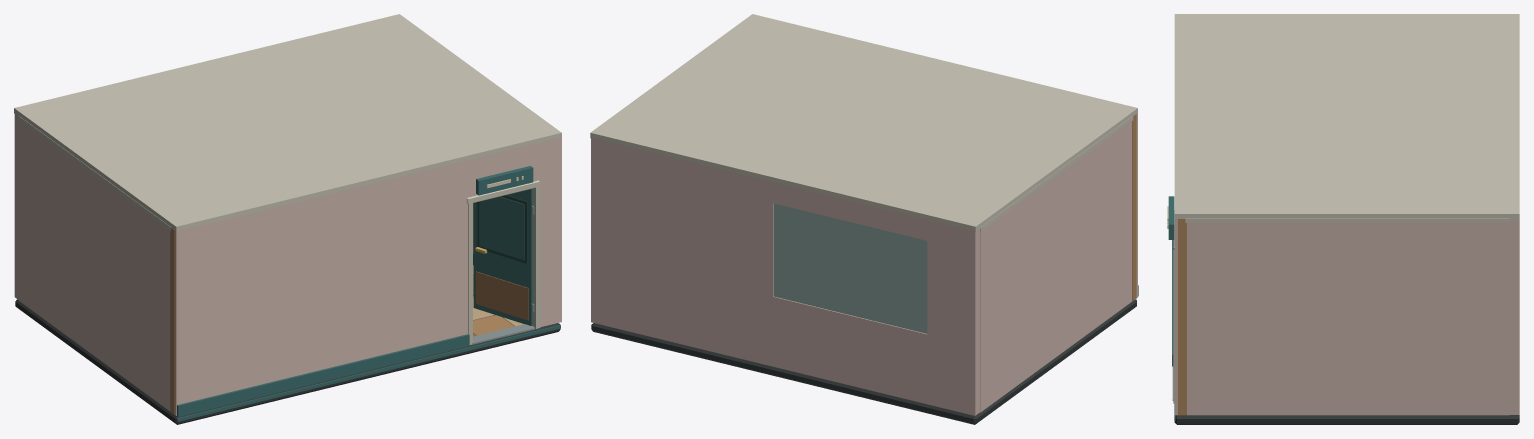
Rendered from kids-room.glb.
The picture shows the model from 3 angles, left to right: view 1: azimuth 30°, elevation 25°; view 2: azimuth 150°, elevation 25°; view 3: azimuth 270°, elevation 25°; orthographic projection. The views are drawn at different scales.
Visible parts, largest first — view 1: cutaway_ceiling_room, cutaway_front_room, cutaway_side_left, room_architecture, intact_door; view 2: room_architecture, cutaway_ceiling_room, cutaway_side_left; view 3: cutaway_ceiling_room, cutaway_side_right, room_architecture, cutaway_front_room.
Part boxes in pixels (bbox=[...]): cutaway_ceiling_room: bbox=[14, 14, 561, 231]; cutaway_front_room: bbox=[175, 137, 561, 416]; cutaway_side_left: bbox=[18, 115, 174, 414]; room_architecture: bbox=[14, 114, 560, 424]; intact_door: bbox=[473, 188, 534, 325]; room_architecture: bbox=[591, 138, 1136, 424]; cutaway_ceiling_room: bbox=[590, 14, 1137, 232]; cutaway_side_left: bbox=[980, 114, 1136, 412]; cutaway_ceiling_room: bbox=[1174, 14, 1519, 219]; cutaway_side_right: bbox=[1178, 218, 1509, 415]; room_architecture: bbox=[1167, 196, 1519, 424]; cutaway_front_room: bbox=[1172, 219, 1177, 415].
Size of what is drawn, in the model's own units: 6.65 by 3.28 by 4.94.
